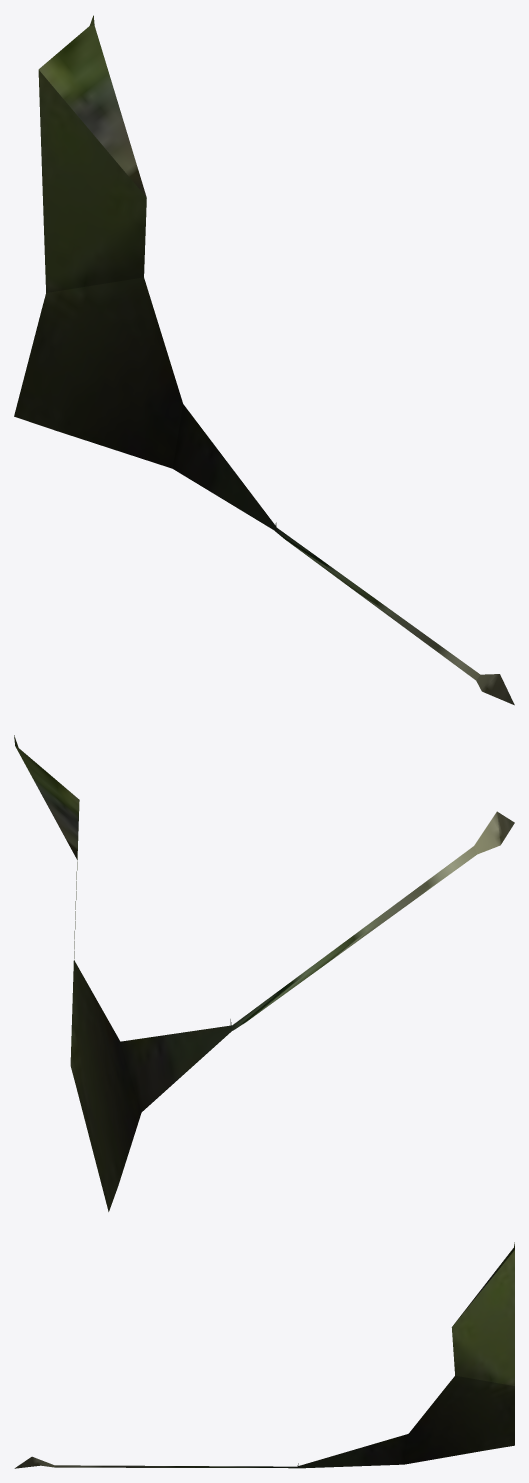
The picture shows the model from 3 angles, top to bottom: view 1: azimuth 30°, elevation 25°; view 2: azimuth 150°, elevation 25°; view 3: azimuth 270°, elevation 25°; orthographic projection. The views are drawn at different scales.
Size of the model in its own units: 0.0406 by 0.1864 by 0.372.
Materials: 1 (1 with a texture image).
